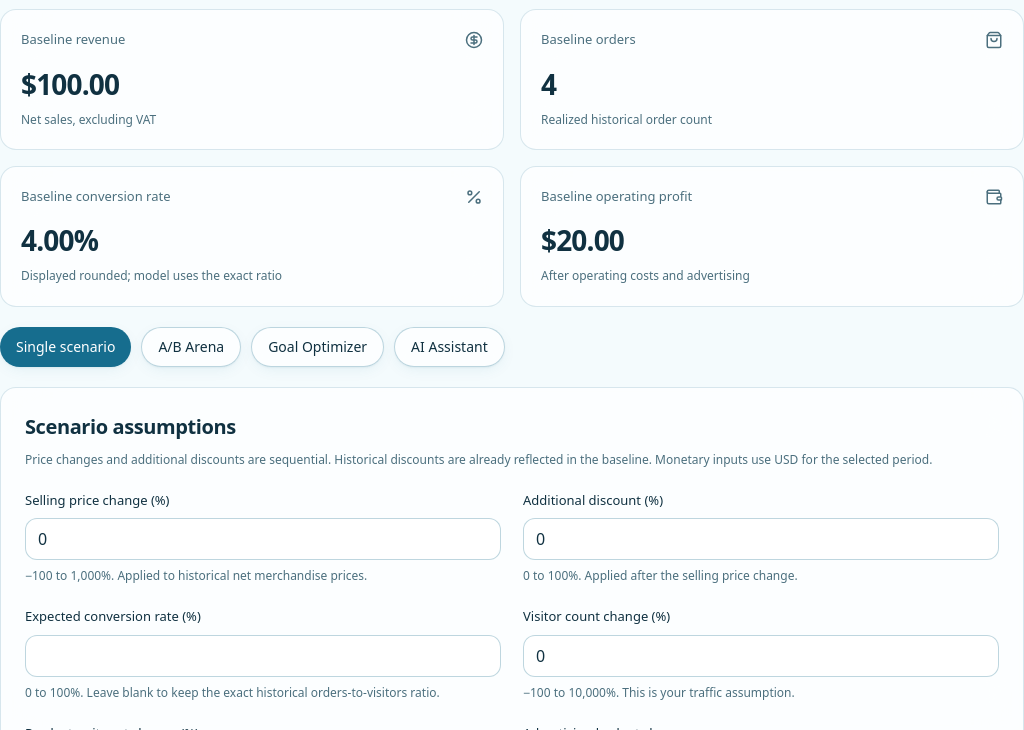
Scenario: goal optimization workflow › explains unachievable and unsupported results and retries request failures
The width and height of the screenshot is (1024, 730).
(page scrolled)
Click the button "Goal Optimizer".
click(318, 347)  # box [251,327,384,367]
(page scrolled)
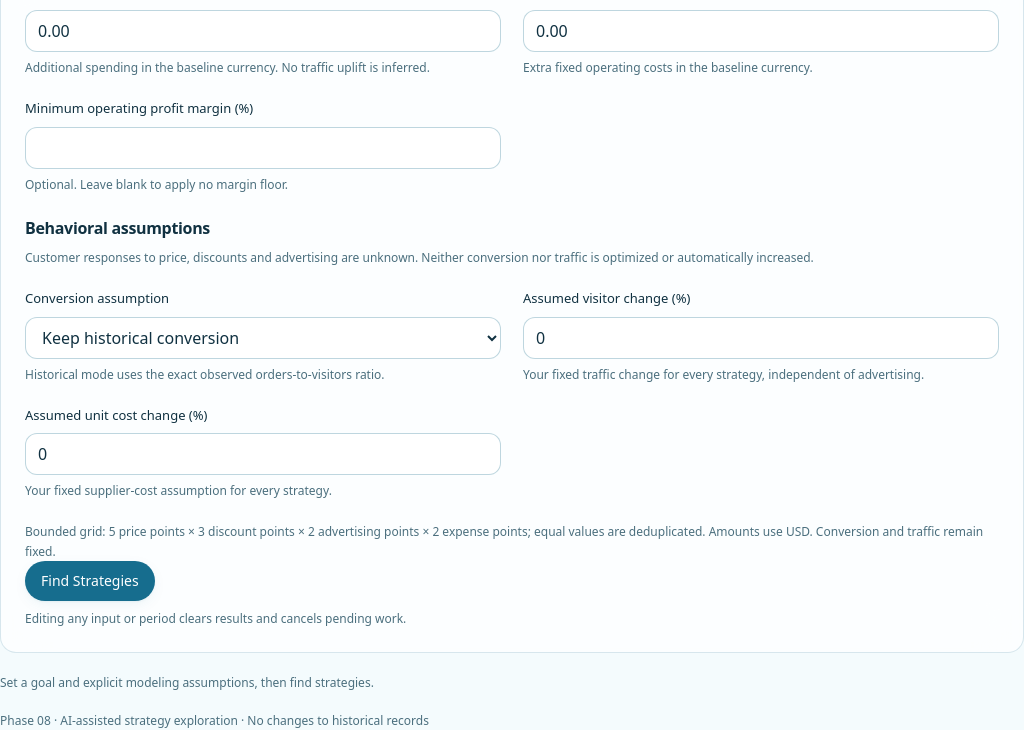
Expected: the button "Find Strategies" is enabled
Click the button "Find Strategies".
click(90, 581)  # box [25,561,155,601]
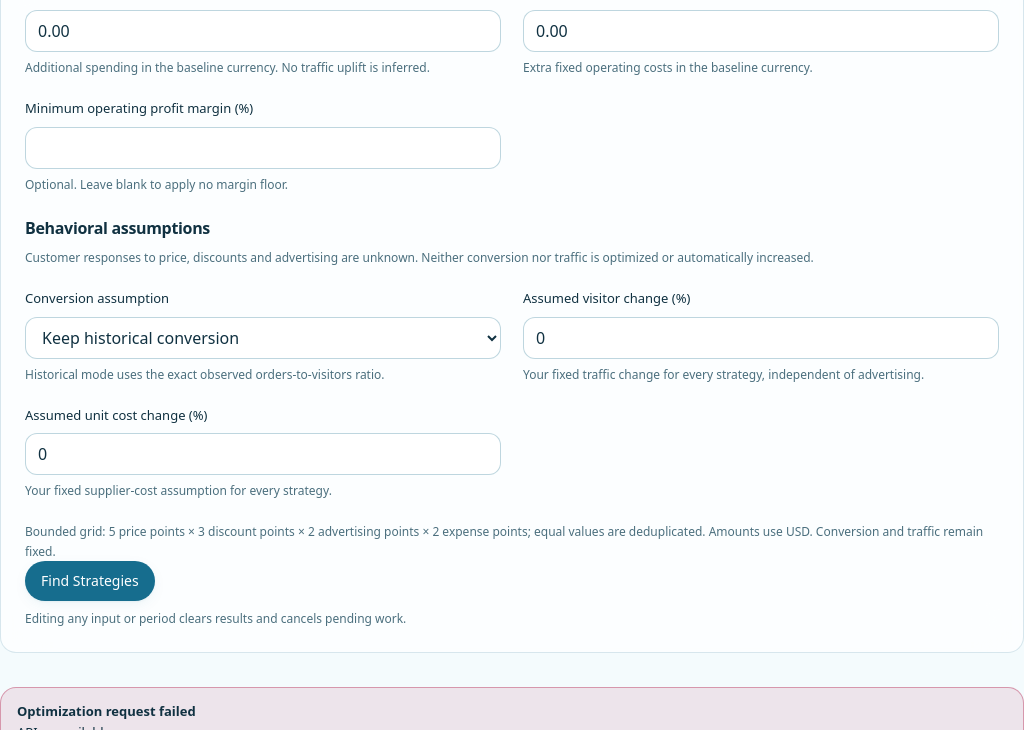
Click the button "Find Strategies".
click(90, 581)  # box [25,561,155,601]
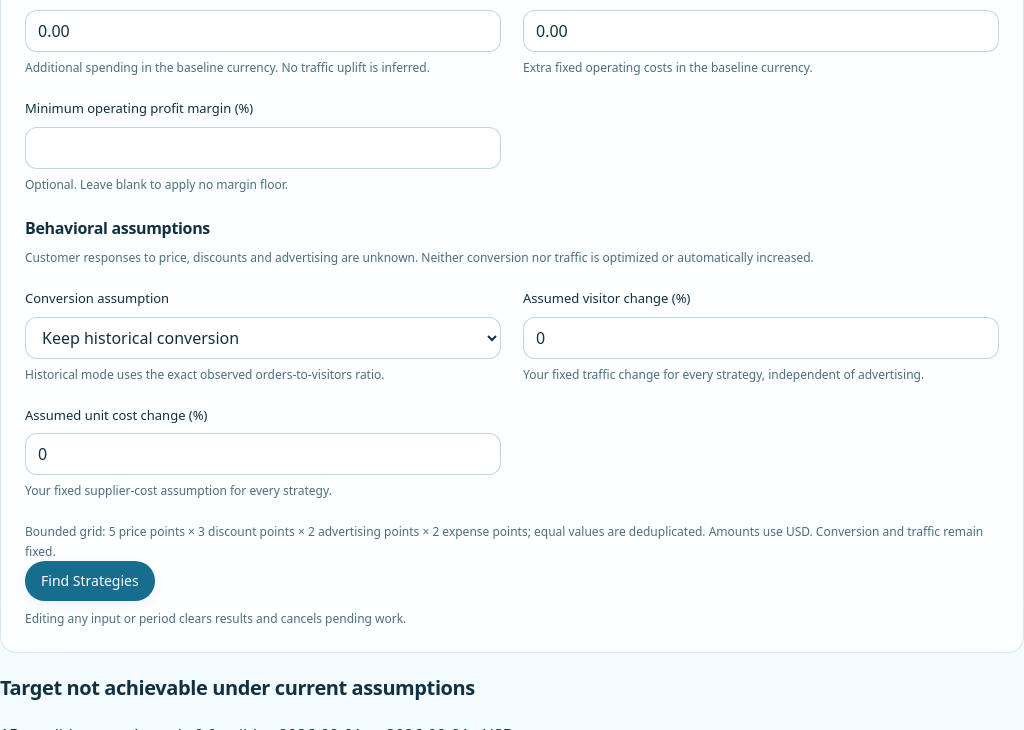
Expected: the heading "Target not achievable under current assumptions" is shown, [0,674,475,701]
Click the button "Find Strategies".
click(90, 581)  # box [25,561,155,601]
(page scrolled)
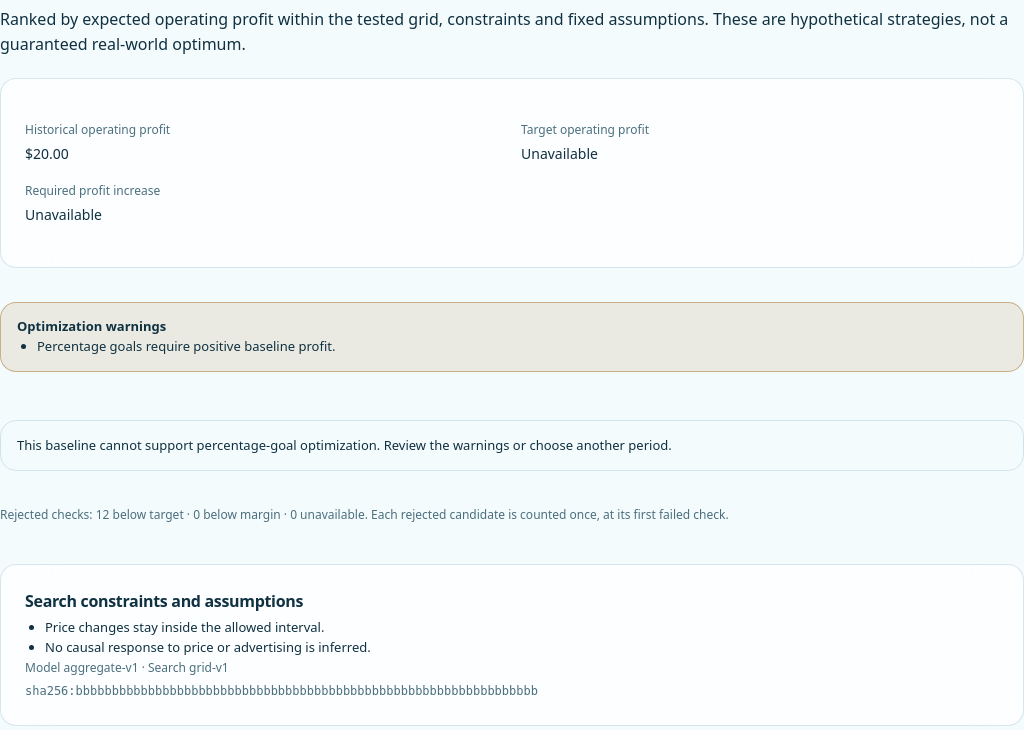
Expected: the list item "Percentage goals require positive baseline profit." is shown, [37,336,336,357]
